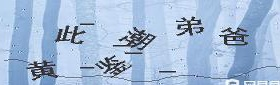chinese: (117, 24, 154, 49), (24, 53, 58, 79), (221, 24, 253, 49), (51, 21, 83, 43), (174, 14, 203, 38), (95, 55, 129, 74)
